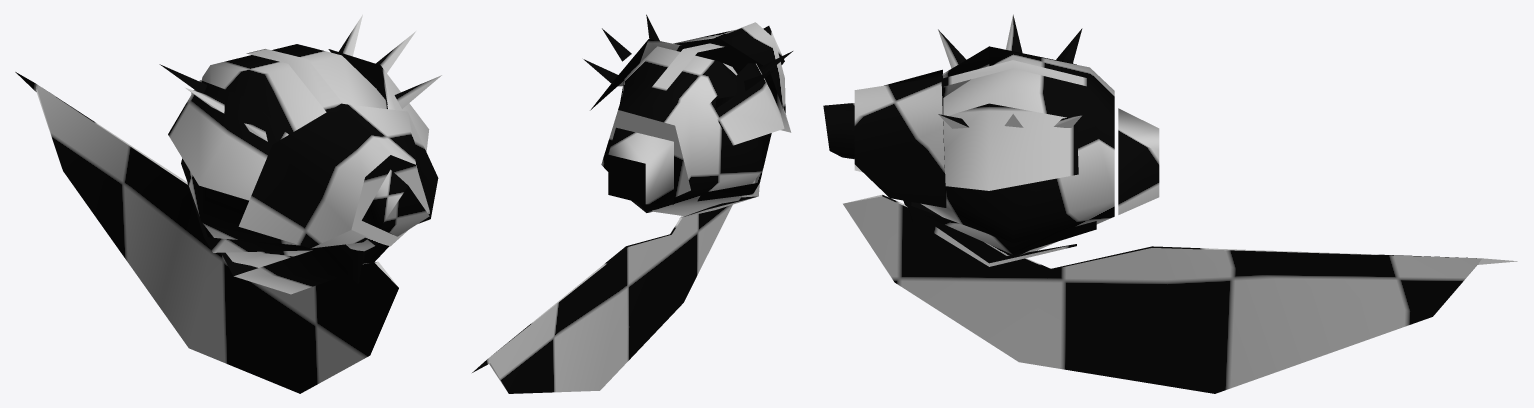
The model's file is drone_iris_4.obj.
3 renders of one model, left to right at view 1: azimuth 30°, elevation 25°; view 2: azimuth 150°, elevation 25°; view 3: azimuth 270°, elevation 25°, orthographic. The views are drawn at different scales.
Visible parts, largest first — view 1: main; view 2: main; view 3: main.
Part boxes in pixels (x1,y1,x2,y2): main: (15,14,441,393); main: (472,14,792,393); main: (823,14,1517,393).
Bounding box in the file's own units: 13.36 × 20.55 × 39.45.
Materials: 1 (1 with a texture image).
